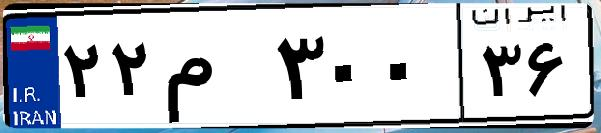0: (385, 28, 445, 110), (330, 28, 385, 110)
2: (57, 26, 110, 100), (110, 28, 158, 98)
3: (270, 28, 330, 110), (475, 38, 525, 113)
6: (525, 38, 570, 115)
م: (158, 20, 270, 120)
